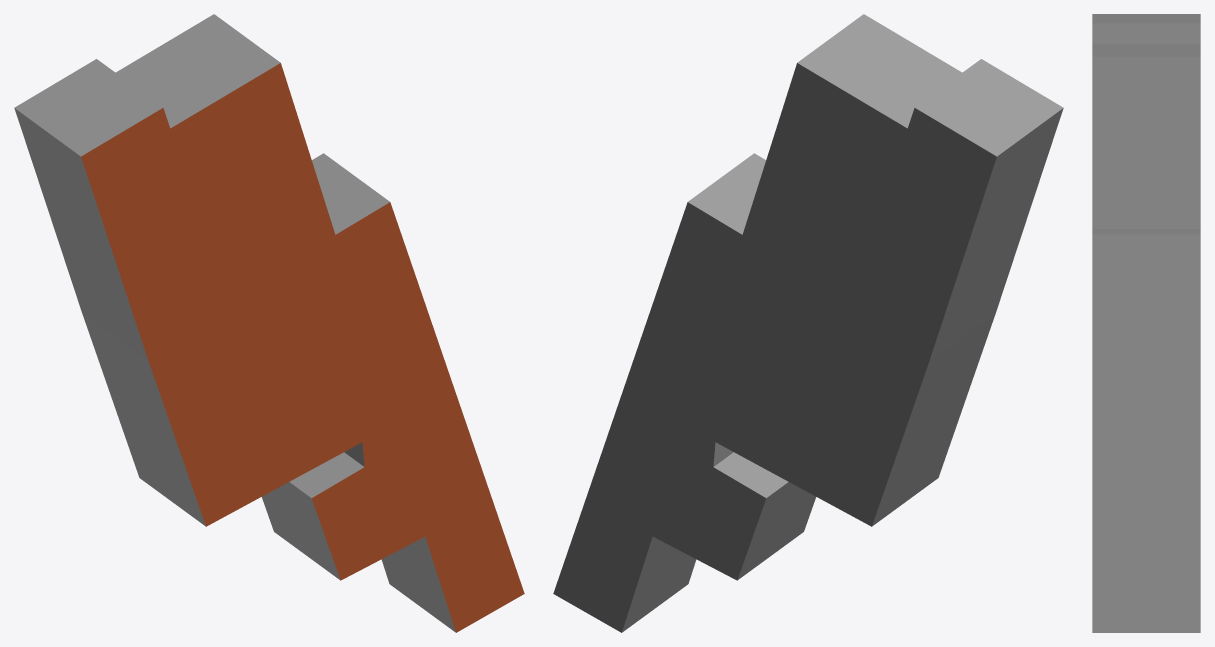
File: construction_5907_assumed_A_Casa_h6m.obj
The picture shows the model from 3 angles, left to right: view 1: azimuth 30°, elevation 25°; view 2: azimuth 150°, elevation 25°; view 3: azimuth 270°, elevation 25°; orthographic projection. The views are drawn at different scales.
Parts seen in each view (by area): view 1: construction_5907_assumed_A_Casa; view 2: construction_5907_assumed_A_Casa; view 3: construction_5907_assumed_A_Casa.
Part boxes in pixels (<box>): construction_5907_assumed_A_Casa: <box>14,14,524,632</box>; construction_5907_assumed_A_Casa: <box>553,14,1063,632</box>; construction_5907_assumed_A_Casa: <box>1092,14,1200,632</box>.
Bounding box in the file's own units: 23.03 × 30.4 × 6.
